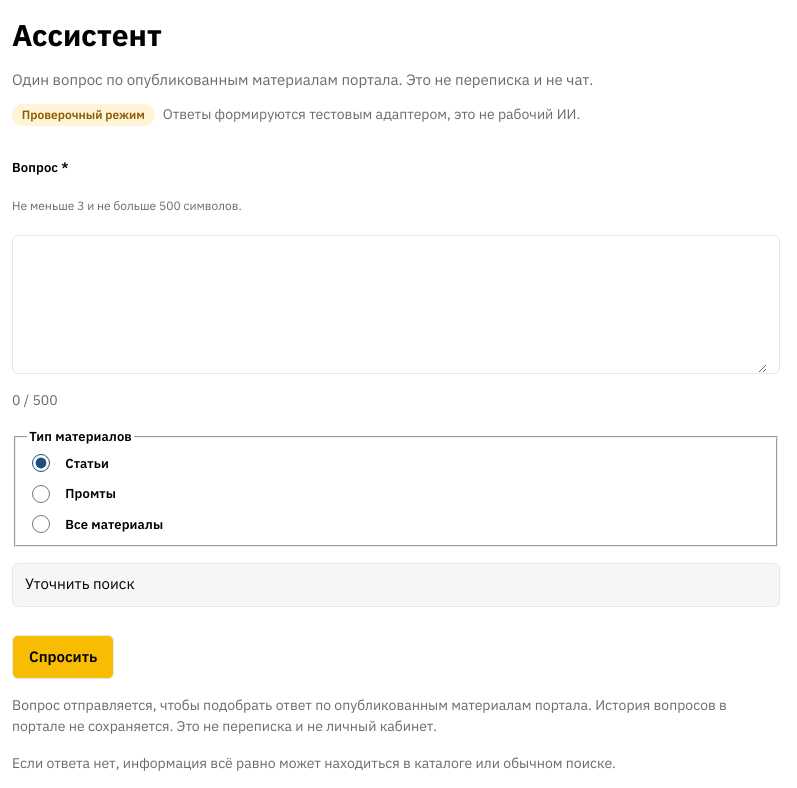
Test: assistant hardening states › keeps the character counter aligned with the textarea
Type "Привет" into the text box labelled "Вопрос *" at [396, 305], box x1=25 y1=236 x2=767 y2=373
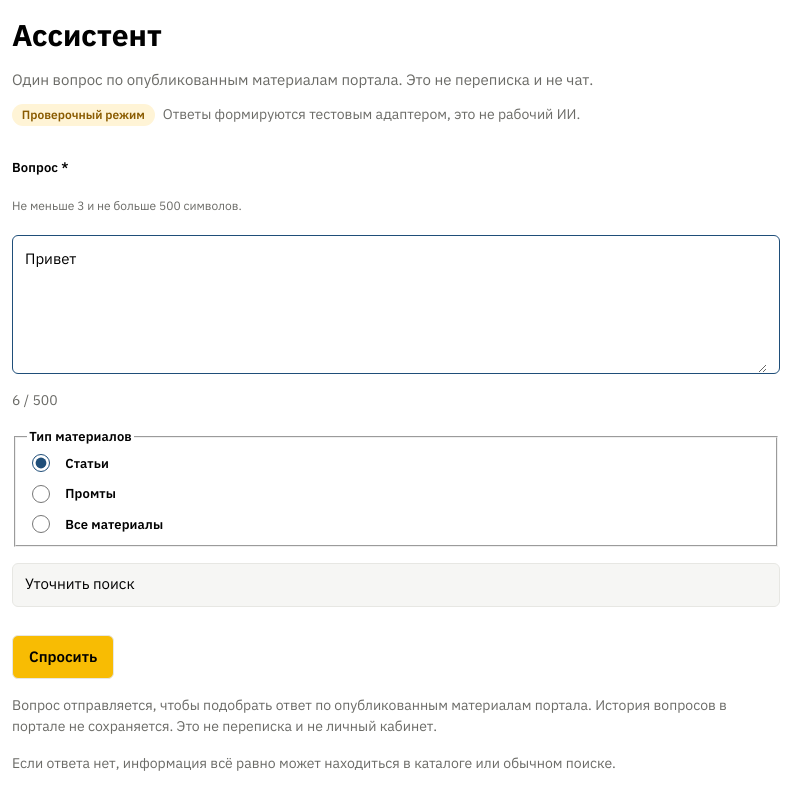
Expected: the text "6 / 500" is shown, x1=12 y1=391 x2=58 y2=409
